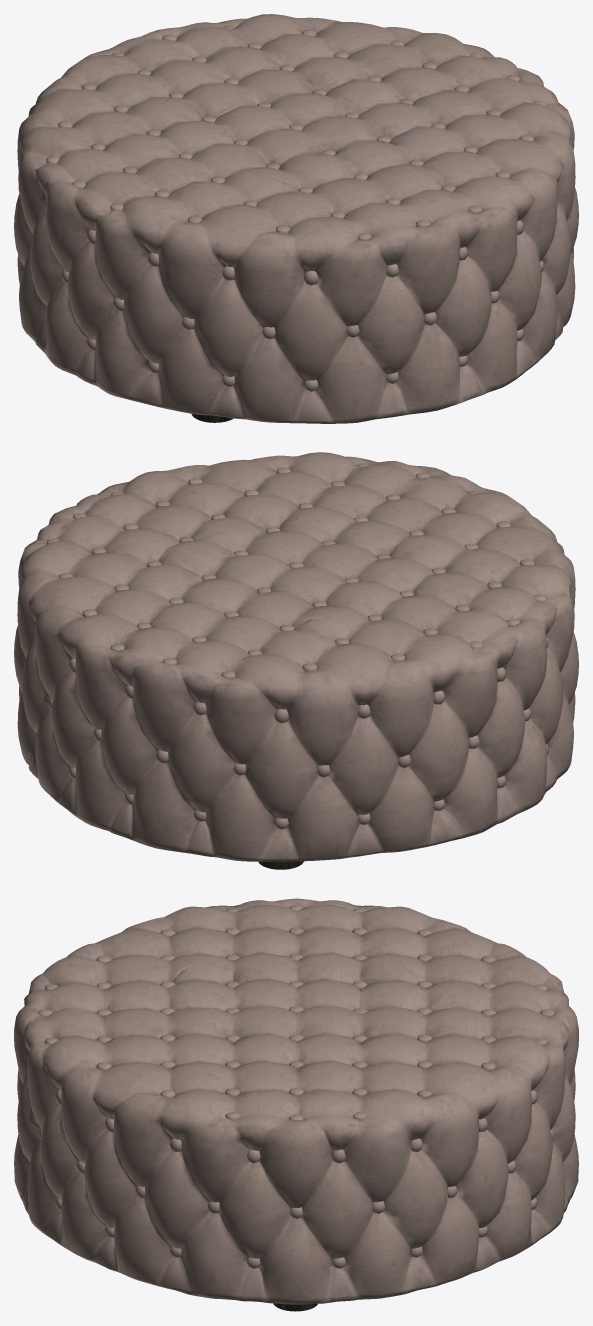
3 views of the same model, one above another, from view 1: azimuth 30°, elevation 25°; view 2: azimuth 150°, elevation 25°; view 3: azimuth 270°, elevation 25° (orthographic).
Visible parts, largest first — view 1: B07B4G5SY7; view 2: B07B4G5SY7; view 3: B07B4G5SY7.
Boxes of the visible parts, x1,y1,x2,y2 form: B07B4G5SY7: (14, 14, 578, 423); B07B4G5SY7: (14, 452, 578, 869); B07B4G5SY7: (14, 898, 578, 1311).
Bounding box in the file's own units: 0.9982 × 0.3987 × 0.9982.
1 material, 1 textured.
